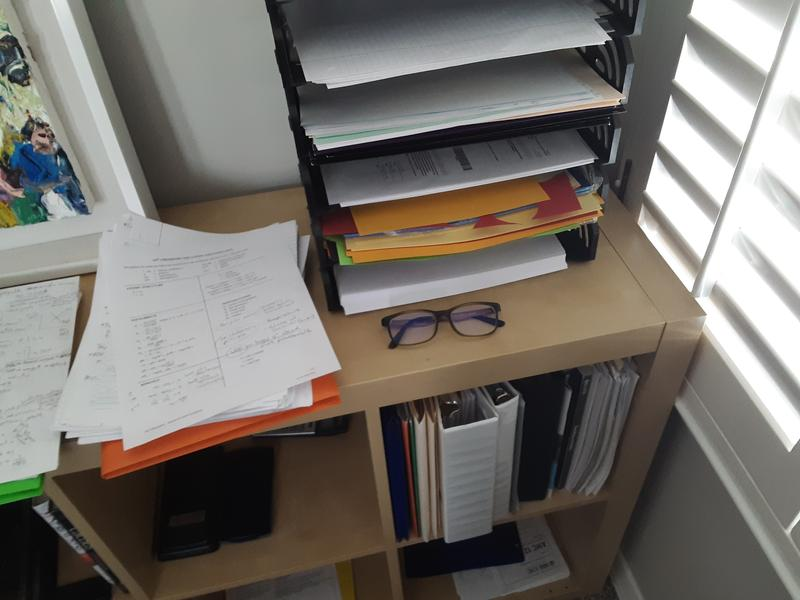glasses: (379, 301, 508, 351)
